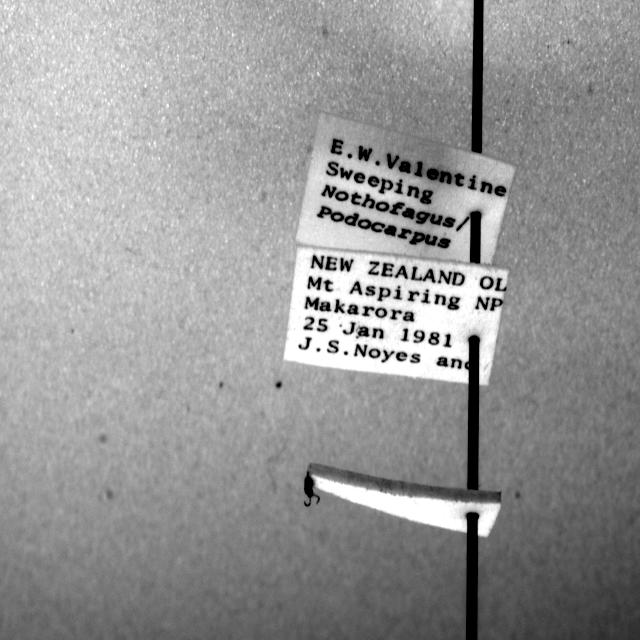typed_label: (296, 112, 515, 264), (284, 248, 509, 384)
